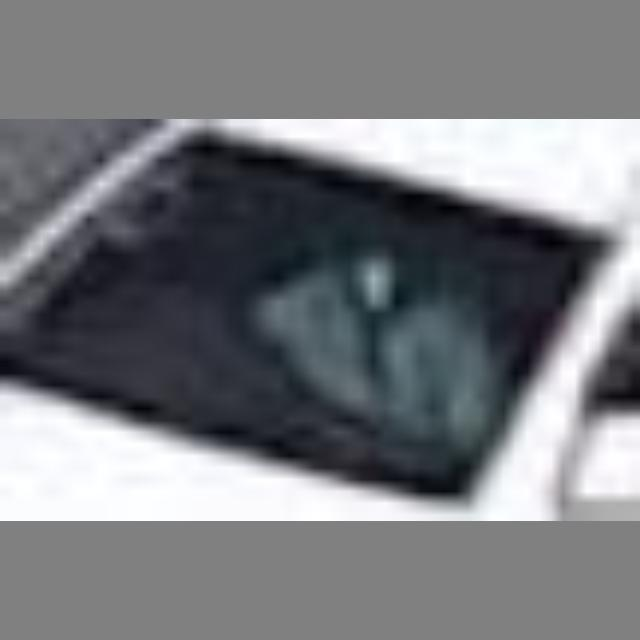pakai: (201, 226, 521, 451)
